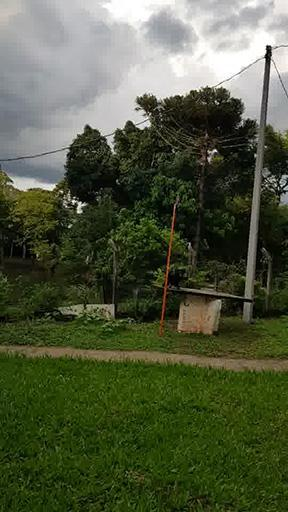Vara_Manobra: (157, 204, 177, 336)
